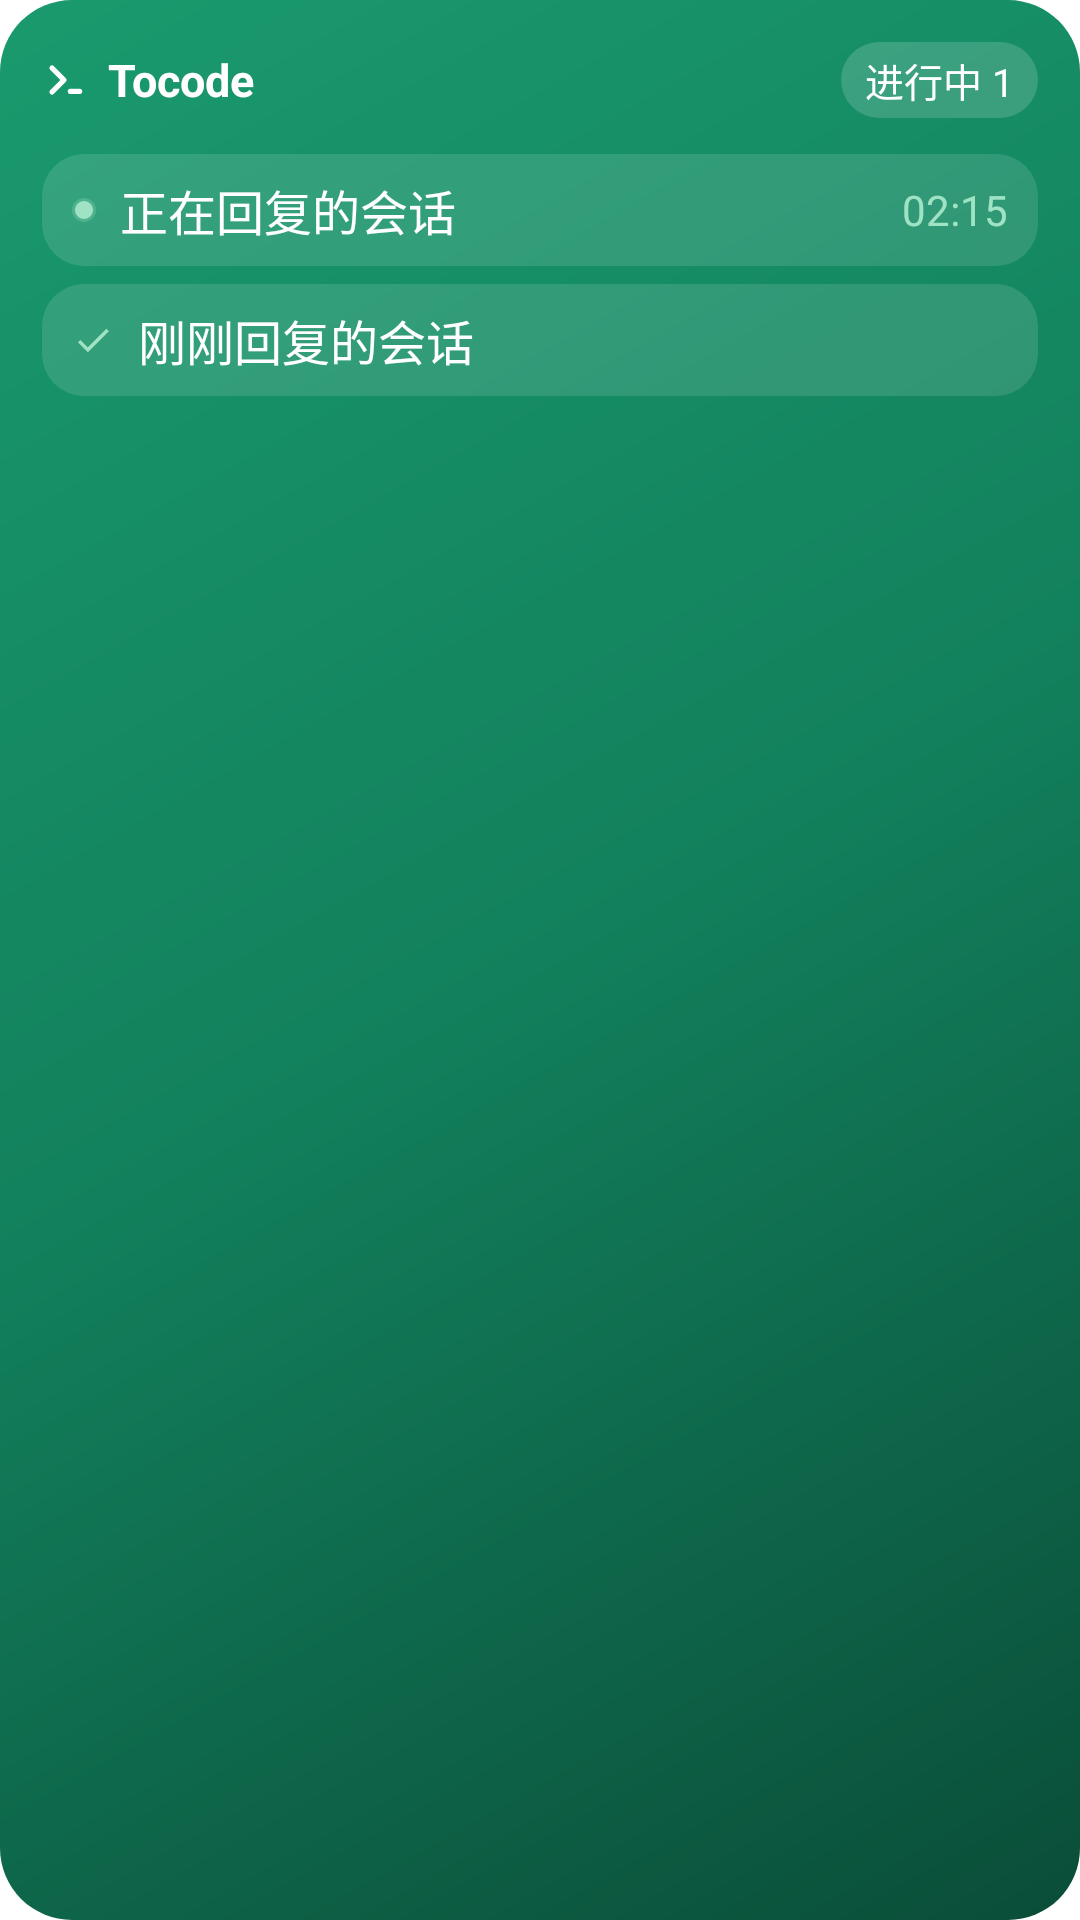

Where to tap for icons on this 1080x1920 app screen, as (x,y):
widget done: (93,340)
widget dot: (84,210)
